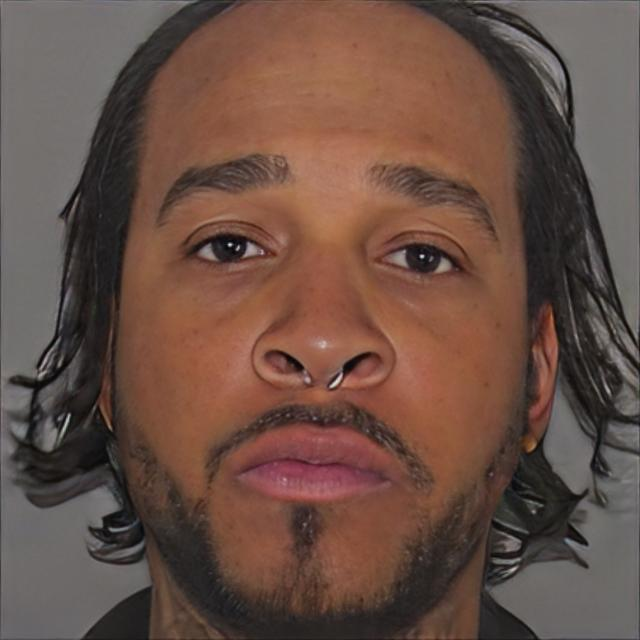sad: (110, 0, 528, 640)
